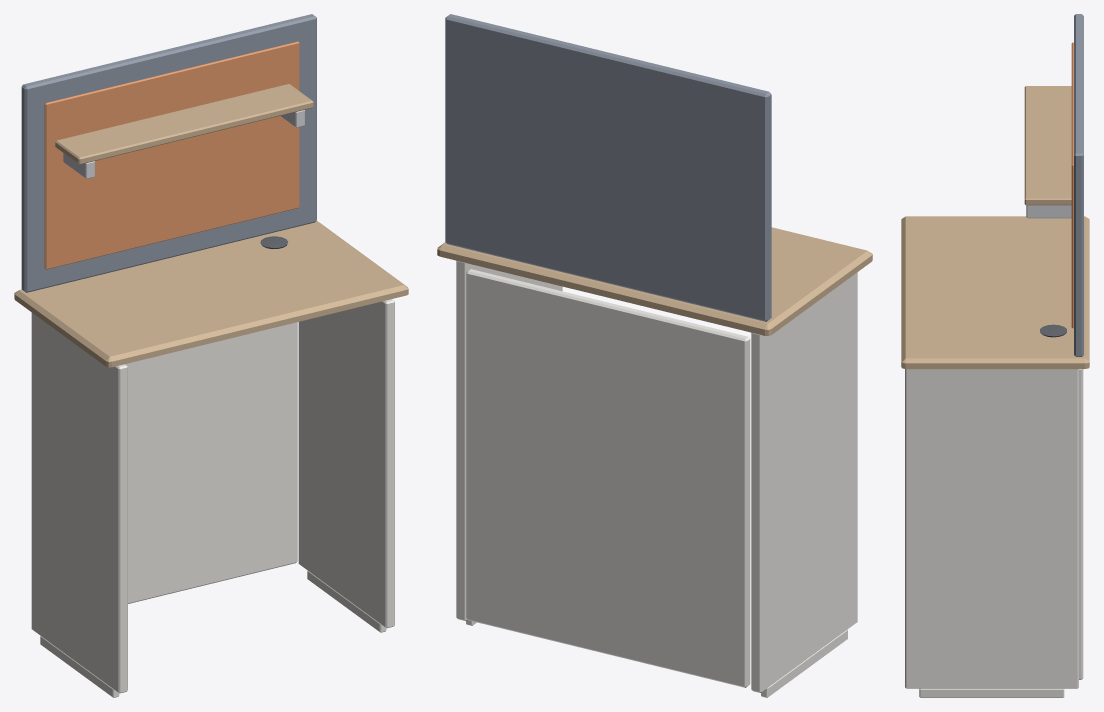
The model's file is downtown-office-interiors-touchdown-pod-fba2c6bd__16971.glb.
3 renders of one model, left to right at view 1: azimuth 30°, elevation 25°; view 2: azimuth 150°, elevation 25°; view 3: azimuth 270°, elevation 25°, orthographic. The views are drawn at different scales.
Parts seen in each view (by area): view 1: touchdown-pod; view 2: touchdown-pod; view 3: touchdown-pod.
Boxes of the visible parts, x1,y1,x2,y2 form: touchdown-pod: [14, 14, 408, 697]; touchdown-pod: [437, 14, 872, 697]; touchdown-pod: [901, 14, 1089, 697].
Size of the model in its own units: 0.95 by 1.67 by 0.52.
